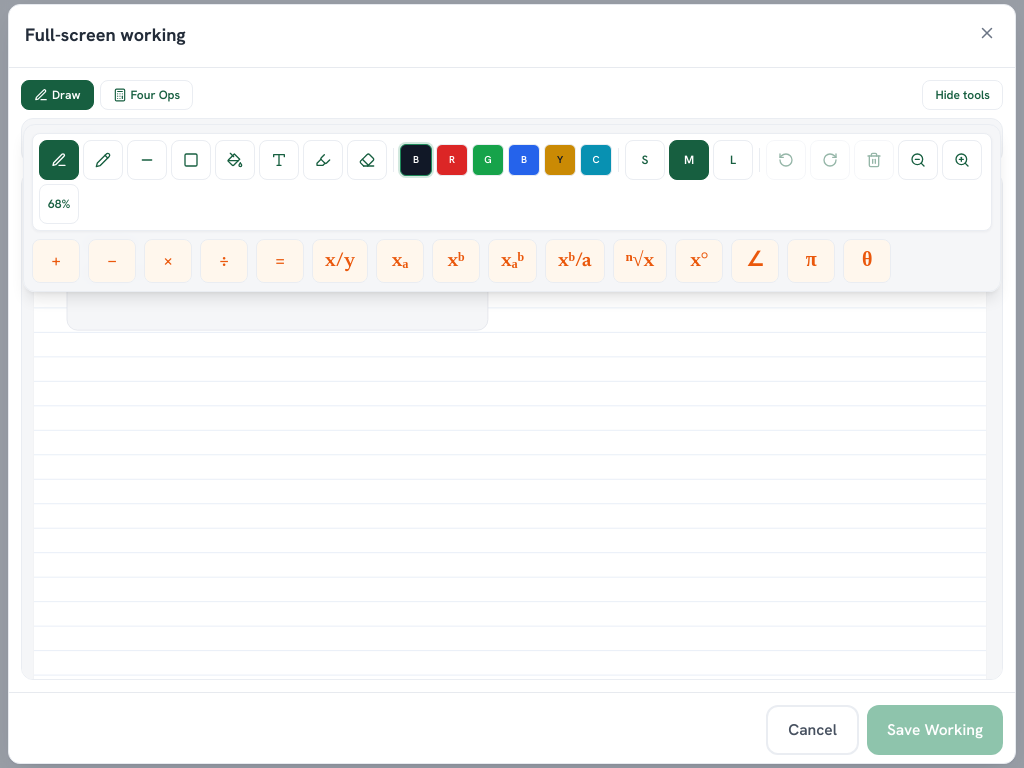
it: FullScreenWorkingMode › offers operator stamps and inserts one as a draggable object (parity with the scratchpad)
Operators were previously missing from the full-screen stamp list.
Click the button titled "Insert +": click(56, 261) [32,239,80,283]
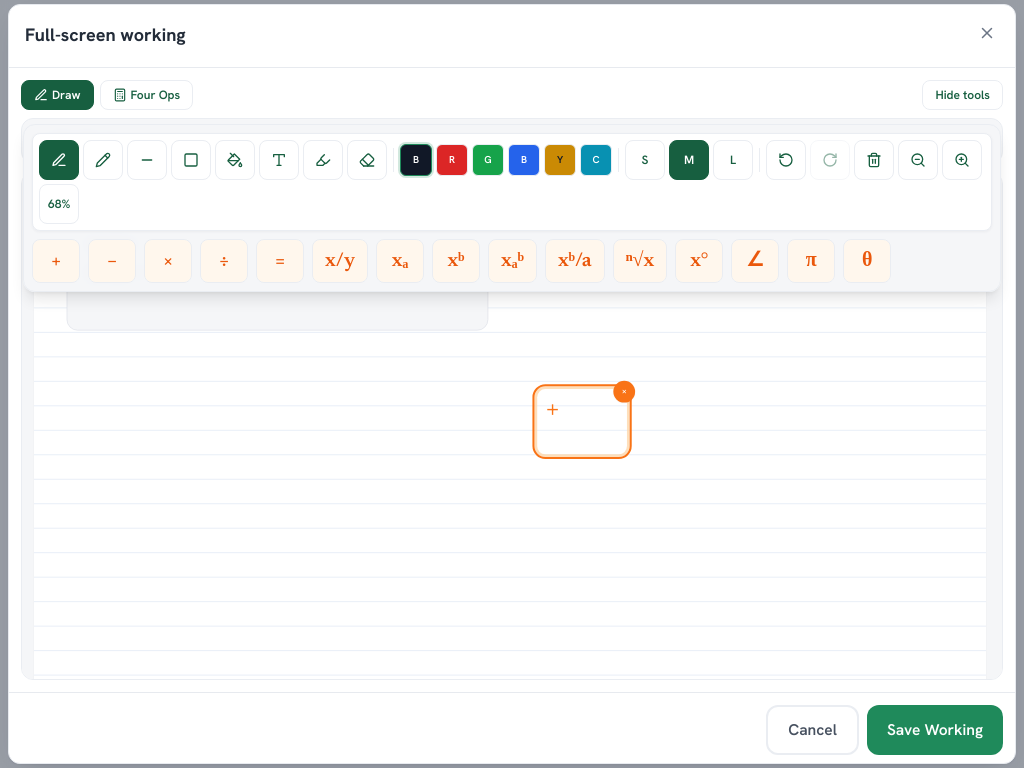
Expected: the button with test id "math-object-plus" is shown, [537,389,627,455]
